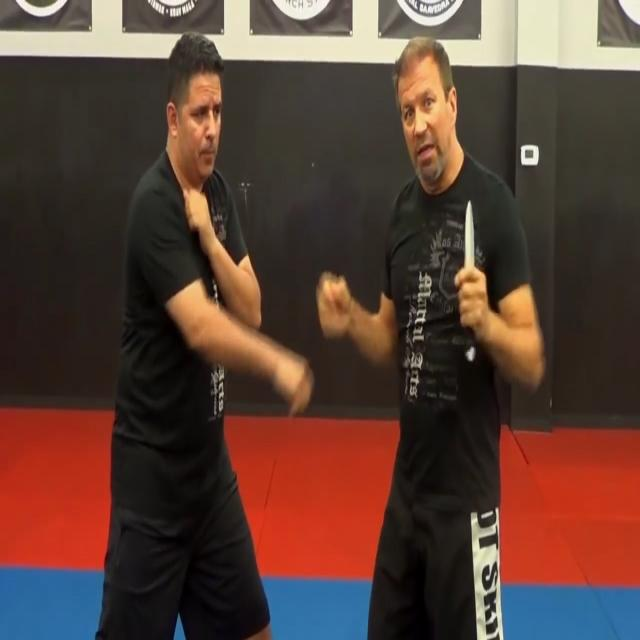knife: (464, 202, 480, 364)
